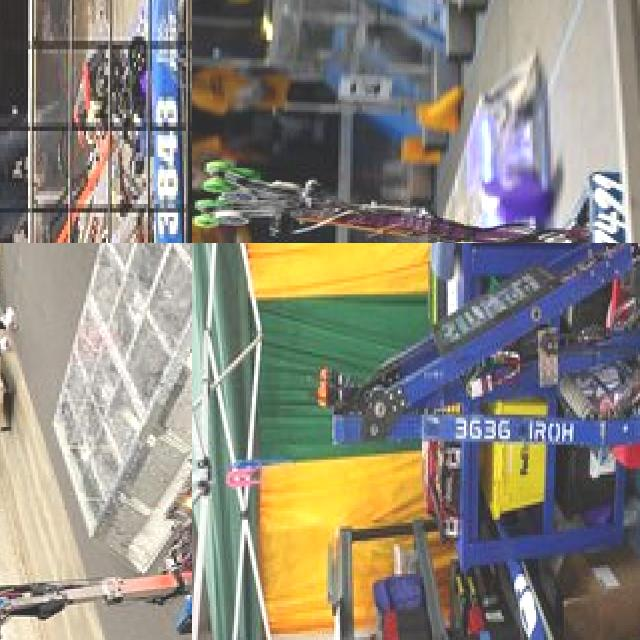FRC-Robots: (299, 243, 640, 581), (0, 355, 192, 640), (0, 0, 192, 243), (213, 158, 640, 243)
